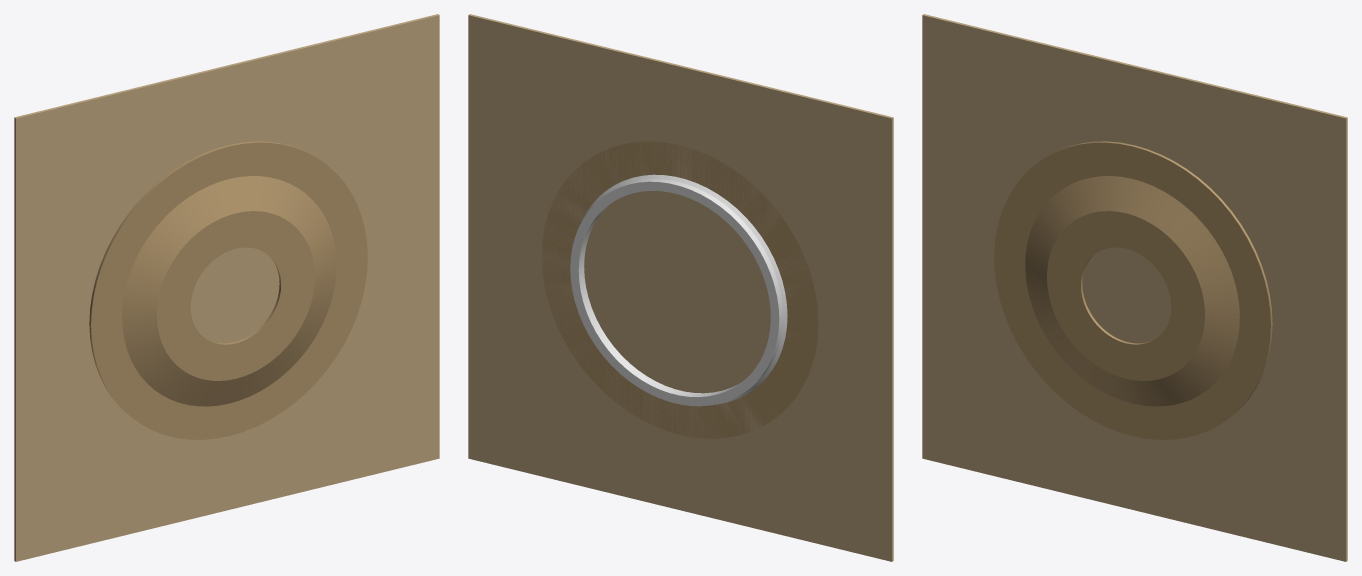
3 renders of one model, left to right at view 1: azimuth 30°, elevation 25°; view 2: azimuth 150°, elevation 25°; view 3: azimuth 330°, elevation 25°, orthographic.
Parts seen in each view (by area): view 1: medallion_plate; view 2: medallion_plate; view 3: medallion_plate.
Part boxes in pixels (left/top/right/bottom): medallion_plate: left=14, top=14, right=439, bottom=561; medallion_plate: left=468, top=14, right=893, bottom=561; medallion_plate: left=922, top=14, right=1347, bottom=561.
Bounding box in the file's own units: 0.15 × 0.15 × 0.0093.
